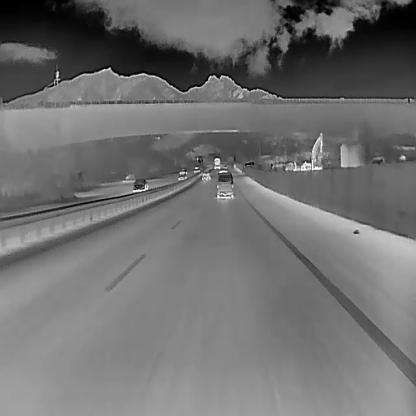car: (214, 170, 233, 199), (132, 178, 149, 192), (201, 169, 211, 180), (213, 157, 221, 169), (176, 173, 187, 181), (179, 166, 186, 174), (193, 166, 200, 172), (222, 163, 227, 168)
